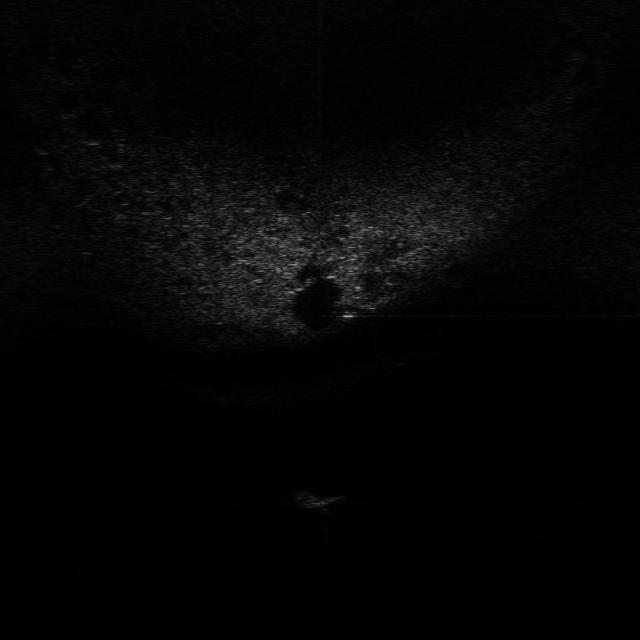cube: (287, 484, 344, 512)
